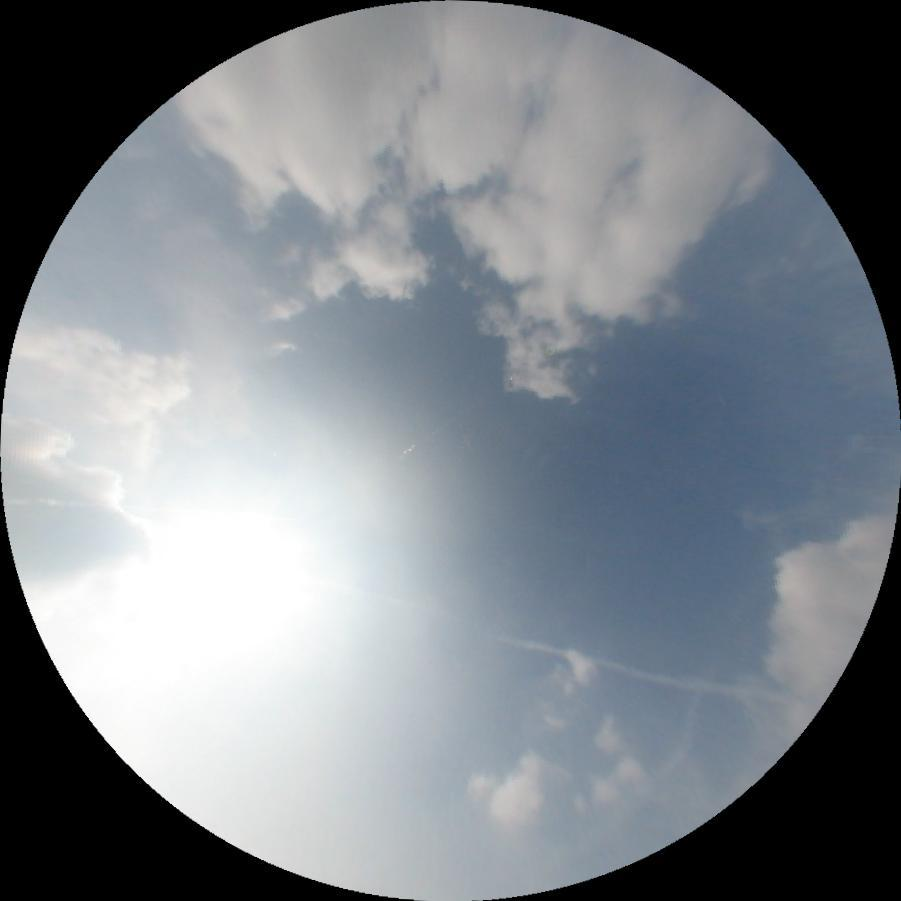contrail old: (492, 633, 743, 702)
sun: (71, 505, 328, 703)
